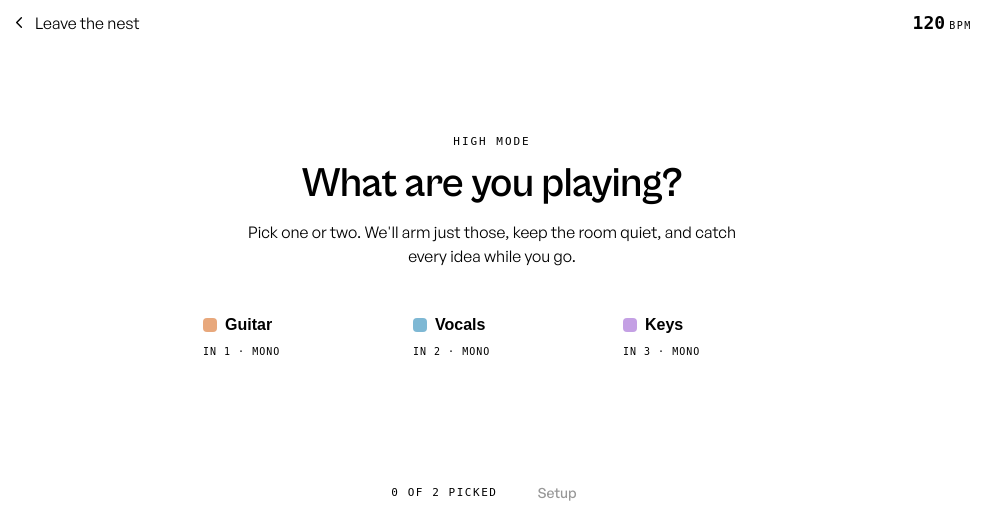
HighMode — select › selects a card on click
Click the button "Guitar In 1 · Mono" at (282, 364), box [187, 300, 377, 427]
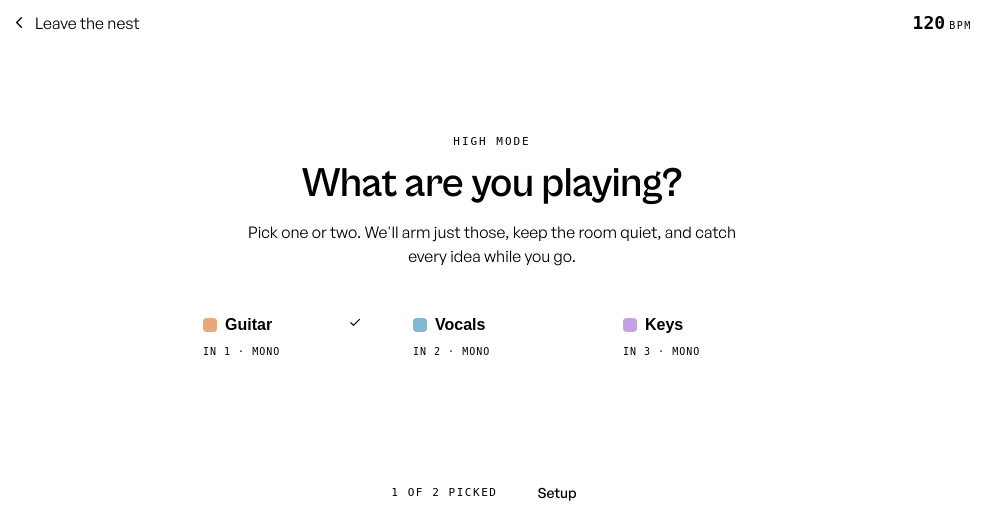
Expected: the button "Setup" is enabled, [522, 475, 593, 511]
